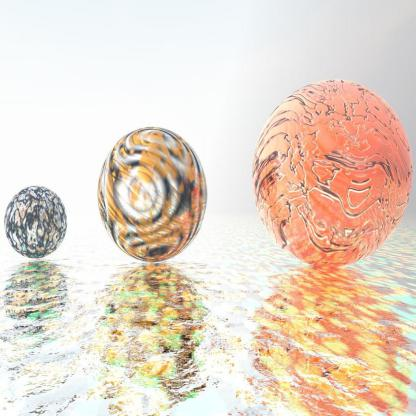Ball: (253, 77, 414, 267), (96, 128, 206, 260), (5, 187, 66, 257)
